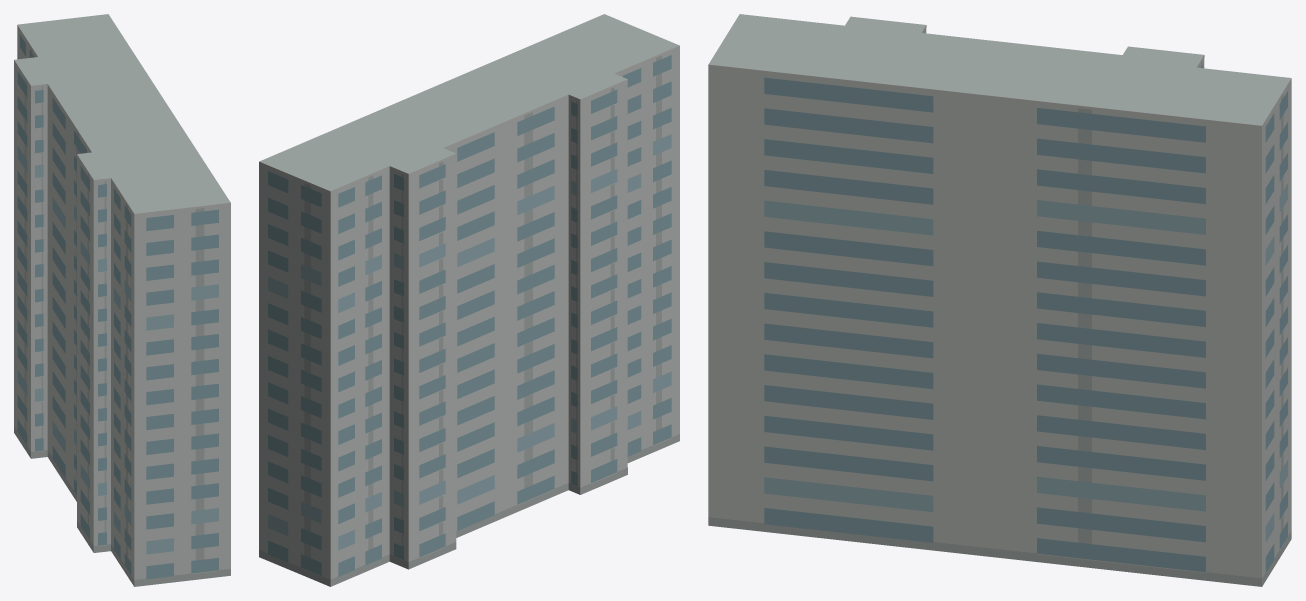
File: residential-6009e05f-fd50-47ec-aaa5-c93bfaea3cfd.glb
3 renders of one model, left to right at view 1: azimuth 30°, elevation 25°; view 2: azimuth 150°, elevation 25°; view 3: azimuth 270°, elevation 25°, orthographic. The views are drawn at different scales.
Visible parts, largest first — view 1: residential-6009e05f-fd50-47ec-aaa5-c93bfaea3cfd.tmp; view 2: residential-6009e05f-fd50-47ec-aaa5-c93bfaea3cfd.tmp; view 3: residential-6009e05f-fd50-47ec-aaa5-c93bfaea3cfd.tmp.
Boxes of the visible parts, x1,y1,x2,y2 form: residential-6009e05f-fd50-47ec-aaa5-c93bfaea3cfd.tmp: (14,14,230,586); residential-6009e05f-fd50-47ec-aaa5-c93bfaea3cfd.tmp: (259,14,679,586); residential-6009e05f-fd50-47ec-aaa5-c93bfaea3cfd.tmp: (708,14,1291,586).
Bounding box in the file's own units: 21.86 × 42 × 48.16.
